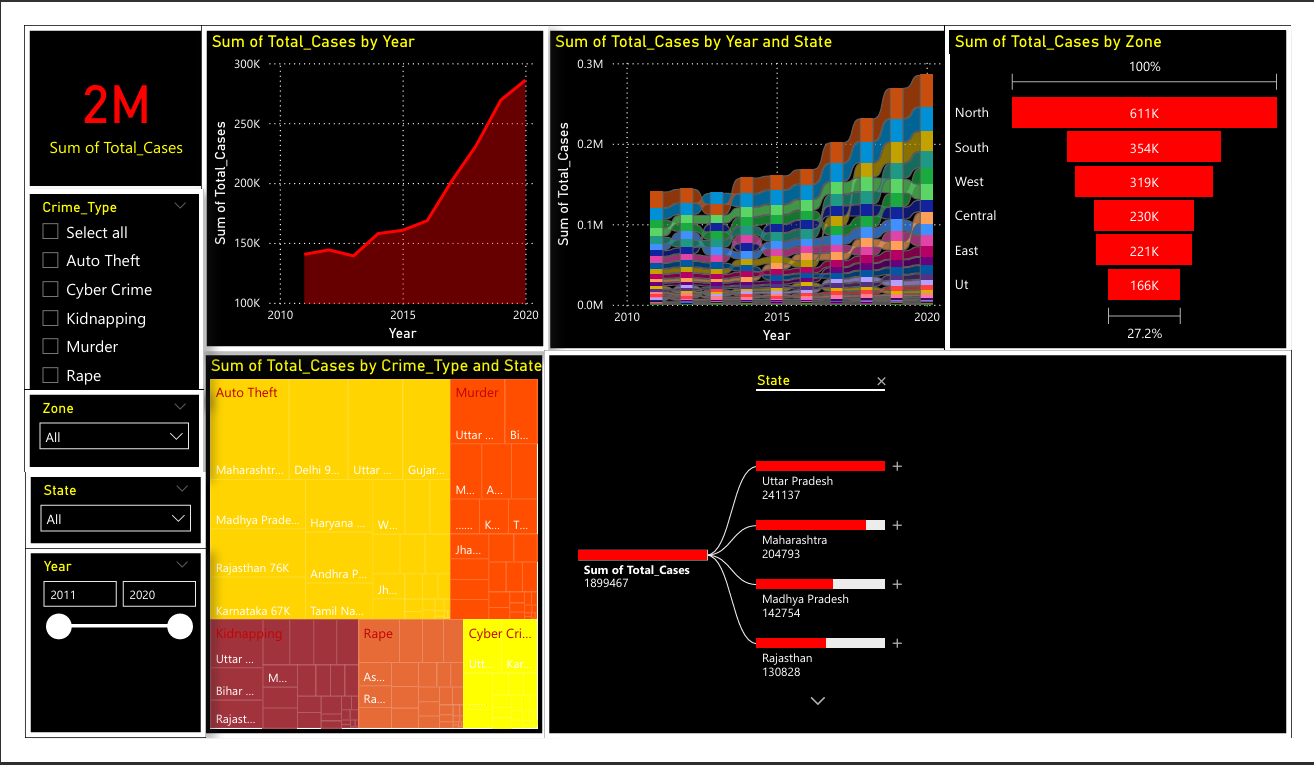

This screenshot's page, from the dashboard's own definition file:
{"tool":"powerbi","page":{"name":"Page 1","canvas":[1280,720],"ordinal":0},"visuals":[{"type":"treemap","fields":{"Group":["Master_Crime_Table.Crime_Type"],"Details":["Master_Crime_Table.State"],"Values":["Sum(Master_Crime_Table.Total_Cases)"]},"box":[178.3,328.3,350,391.7],"z":1000},{"type":"ribbonChart","fields":{"Y":["Sum(Master_Crime_Table.Total_Cases)"],"Series":["Master_Crime_Table.State"],"Category":["Master_Crime_Table.Year"]},"box":[525.7,0,410,331.4],"z":2000},{"type":"card","fields":{"Values":["Sum(Master_Crime_Table.Total_Cases)"]},"box":[0,0,185,166.7],"z":3000},{"type":"lineChart","fields":{"Y":["Sum(Master_Crime_Table.Total_Cases)"],"Category":["Master_Crime_Table.Year"]},"box":[178.6,0,350,328.6],"z":4000},{"type":"funnel","fields":{"Category":["Master_Crime_Table.Zone"],"Y":["Sum(Master_Crime_Table.Total_Cases)"]},"box":[930,0,350,331.4],"z":5000},{"type":"slicer","fields":{"Values":["Master_Crime_Table.Crime_Type"]},"box":[0,164.7,181.1,214.1],"z":6000},{"type":"slicer","fields":{"Values":["Master_Crime_Table.Zone"]},"box":[0,367.8,181.1,83.7],"z":7000},{"type":"decompositionTreeVisual","fields":{"Analyze":["Sum(Master_Crime_Table.Total_Cases)"],"ExplainBy":["Master_Crime_Table.State","Master_Crime_Table.Year","Master_Crime_Table.Crime_Type","Master_Crime_Table.Zone"]},"box":[525,328.3,755,391.7],"z":8000},{"type":"slicer","fields":{"Values":["Master_Crime_Table.Year"]},"box":[1.4,528.3,181.1,190.7],"z":9000},{"type":"slicer","fields":{"Values":["Master_Crime_Table.State"]},"box":[1.4,451.5,181.1,76.8],"z":10000}]}

Visuals, with their boxes in screenshot pixels (x1, y1, x2, y2):
treemap - Master_Crime_Table.Crime_Type x Master_Crime_Table.State: l=201, t=348, r=543, b=730
ribbonChart - Sum(Master_Crime_Table.Total_Cases) x Master_Crime_Table.State: l=541, t=27, r=941, b=351
card - Sum(Master_Crime_Table.Total_Cases): l=27, t=27, r=208, b=190
lineChart - Sum(Master_Crime_Table.Total_Cases) x Master_Crime_Table.Year: l=202, t=27, r=544, b=348
funnel - Master_Crime_Table.Zone x Sum(Master_Crime_Table.Total_Cases): l=936, t=27, r=1277, b=351
slicer - Master_Crime_Table.Crime_Type: l=27, t=188, r=204, b=397
slicer - Master_Crime_Table.Zone: l=27, t=387, r=204, b=468
decompositionTreeVisual - Sum(Master_Crime_Table.Total_Cases) x Master_Crime_Table.State: l=540, t=348, r=1277, b=730
slicer - Master_Crime_Table.Year: l=29, t=543, r=206, b=729
slicer - Master_Crime_Table.State: l=29, t=468, r=206, b=543
